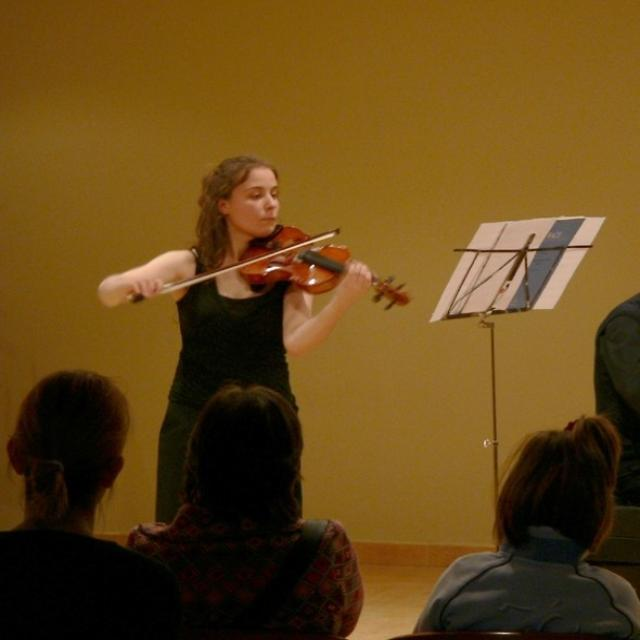violin: (241, 223, 411, 315)
